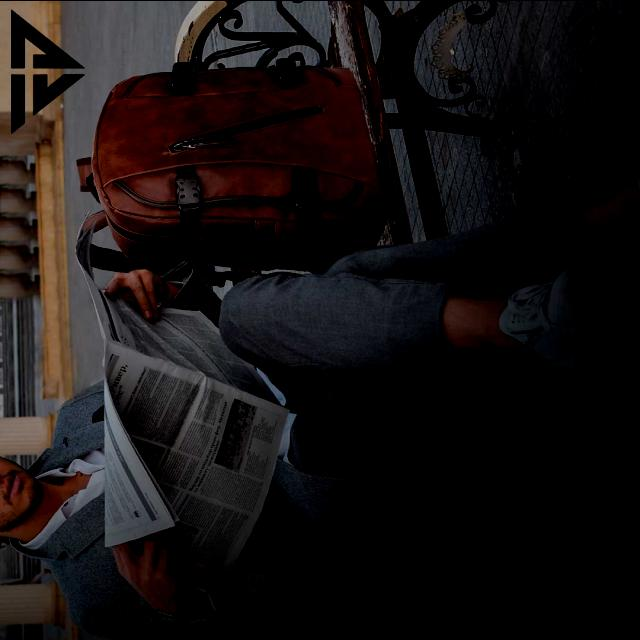backpack: (76, 63, 390, 286)
